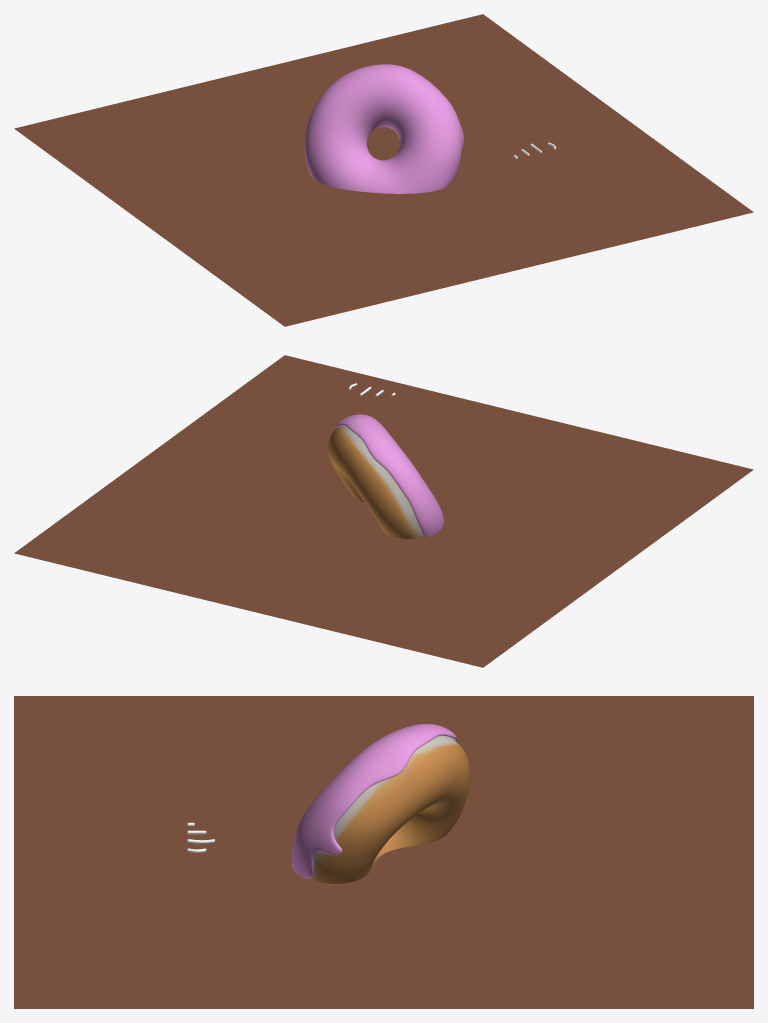
The model's file is doughnut.gltf.
3 renders of one model, top to bottom at view 1: azimuth 30°, elevation 25°; view 2: azimuth 150°, elevation 25°; view 3: azimuth 270°, elevation 25°, orthographic. The views are drawn at different scales.
Parts seen in each view (by area): view 1: Plane, Icing; view 2: Plane, Breadnut, Icing; view 3: Plane, Breadnut, Icing.
Boxes of the visible parts, x1,y1,x2,y2 form: Plane: (14,14,753,326); Icing: (304,64,463,193); Plane: (14,355,753,667); Breadnut: (327,425,422,539); Icing: (336,414,443,537); Plane: (14,696,753,1008); Breadnut: (310,735,470,883); Icing: (291,724,456,879).
Size of the model in its own units: 0.3333 by 0.0892 by 0.3333.
4 materials, 1 textured.
